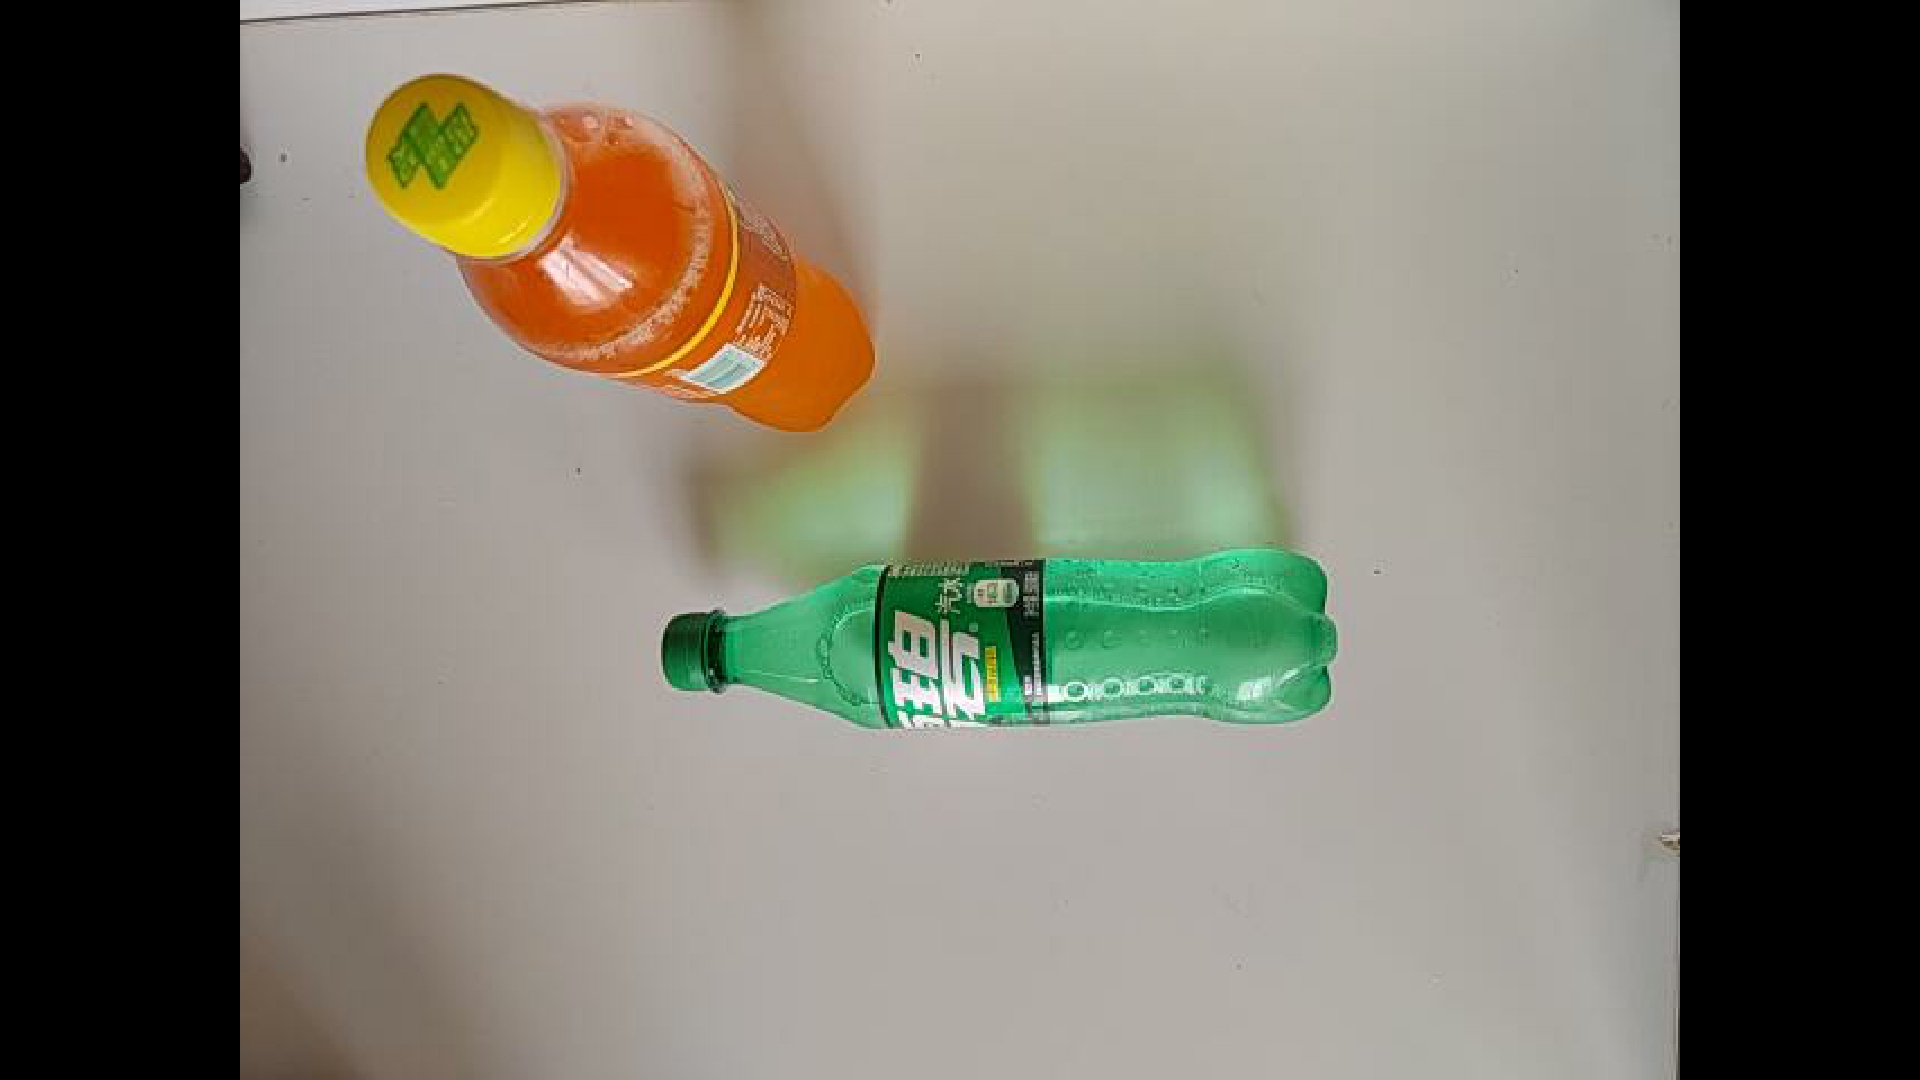fenta: (365, 70, 881, 439)
sprite: (659, 543, 1340, 728)
